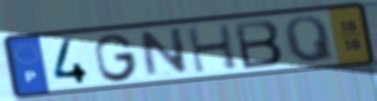4: (51, 35, 92, 87)
B: (231, 18, 285, 71)
G: (92, 31, 141, 84)
H: (184, 22, 241, 75)
N: (138, 25, 192, 81)
Q: (281, 14, 338, 65)
